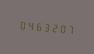four: (25, 18, 32, 32)
seven: (65, 21, 72, 36)
six: (33, 18, 40, 33)
three: (41, 19, 48, 34)
two: (49, 20, 56, 34)
zero: (17, 17, 24, 32), (57, 20, 64, 35)
